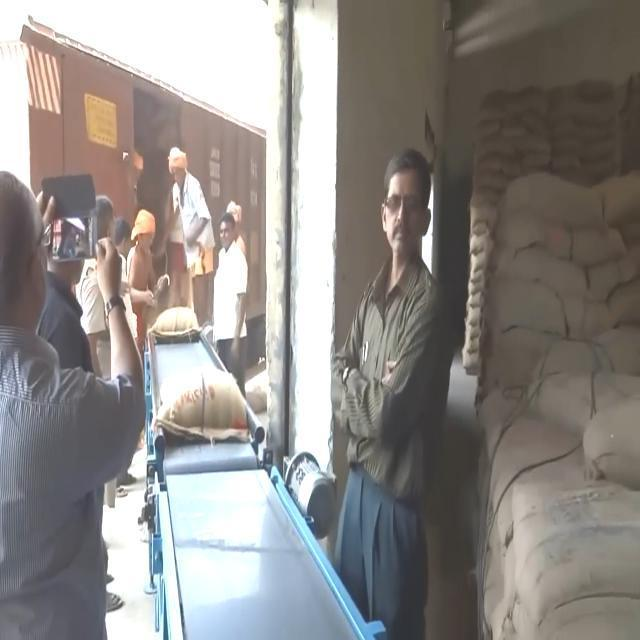gunny_bag: (509, 480, 639, 636), (150, 362, 253, 445), (523, 369, 640, 441), (583, 388, 640, 496), (506, 168, 602, 226), (490, 276, 574, 334), (498, 246, 590, 298), (544, 222, 626, 272), (148, 307, 200, 342)
